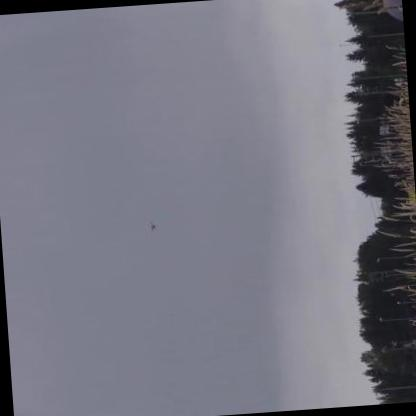plane: (145, 219, 163, 236)
